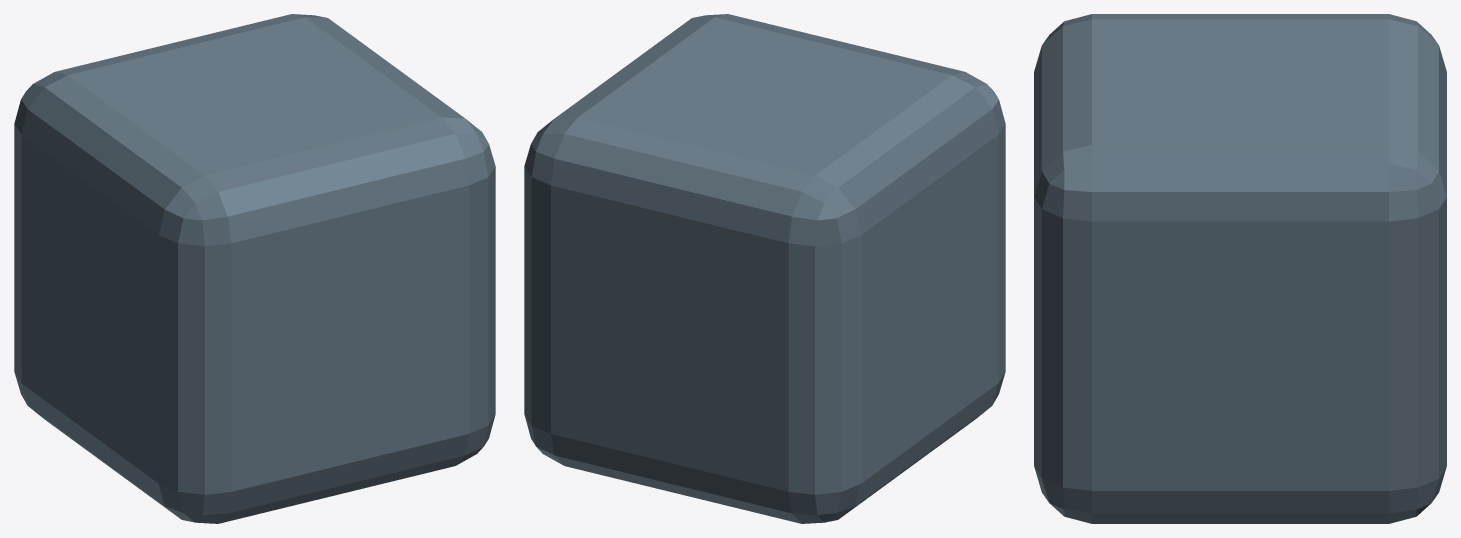
Rendered from P04_RoundedBlock.fbx.
3 renders of one model, left to right at view 1: azimuth 30°, elevation 25°; view 2: azimuth 150°, elevation 25°; view 3: azimuth 270°, elevation 25°, orthographic. The views are drawn at different scales.
Visible parts, largest first — view 1: P04_RoundedBlock; view 2: P04_RoundedBlock; view 3: P04_RoundedBlock.
Boxes of the visible parts, x1,y1,x2,y2 form: P04_RoundedBlock: [14, 14, 495, 523]; P04_RoundedBlock: [524, 14, 1005, 523]; P04_RoundedBlock: [1034, 14, 1446, 523].
Size of the model in its own units: 1 by 1 by 1.
Materials: 1 (1 with a texture image).
